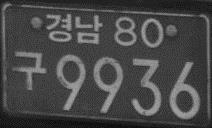0: (141, 17, 164, 50)
3: (129, 56, 160, 116)
6: (168, 59, 200, 121)
8: (113, 15, 136, 46)
9: (55, 52, 88, 112), (91, 55, 123, 115)
경남_O: (45, 12, 104, 46)
구: (11, 49, 48, 91)
